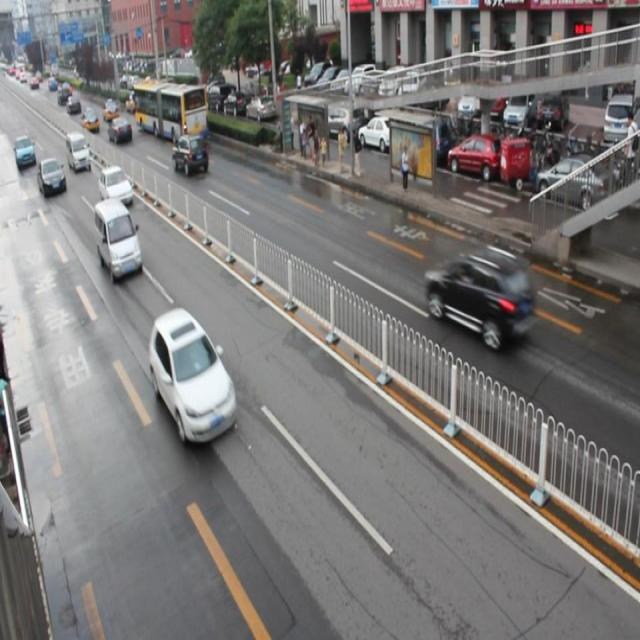car: (423, 246, 534, 350), (149, 310, 234, 441), (171, 135, 208, 177), (98, 163, 132, 206), (38, 158, 66, 198)
truck: (94, 198, 142, 280), (65, 133, 90, 172)
van: (134, 80, 208, 143)
